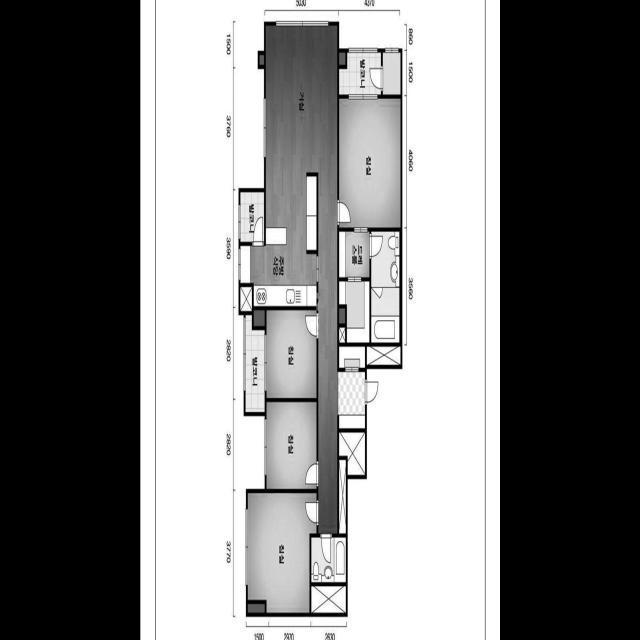background: (140, 0, 500, 640)
space_balconi: (245, 316, 264, 412), (339, 52, 380, 95), (240, 192, 264, 241)
space_bedroom: (248, 494, 316, 612), (339, 100, 400, 227), (266, 403, 316, 489), (267, 311, 316, 398)
space_dressroom: (339, 233, 369, 342)
space_front: (337, 347, 364, 429)
space_kitchen: (240, 172, 316, 306)
space_living_room: (266, 26, 337, 533)
space_other: (339, 432, 364, 475), (311, 586, 345, 613), (382, 53, 400, 96), (367, 347, 400, 365), (338, 460, 345, 533), (240, 287, 252, 311), (339, 308, 345, 324), (339, 327, 345, 342)
space_toilet: (371, 233, 399, 342), (311, 537, 345, 582)
